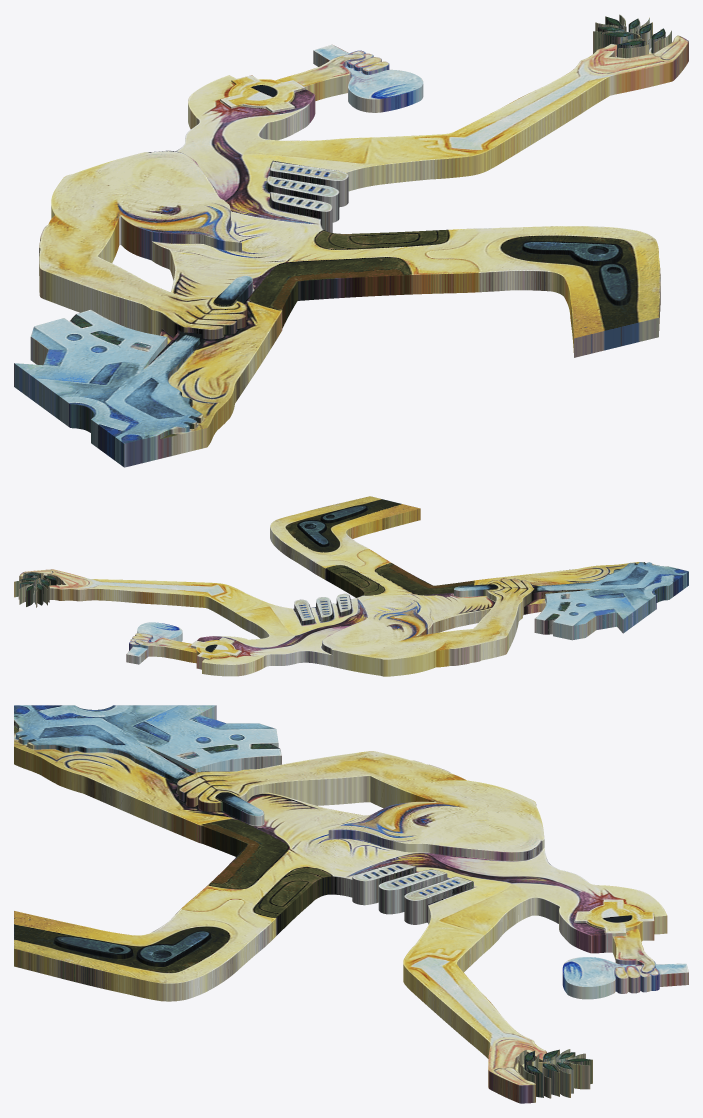
The model's file is el hombre y la quimica 1.dae.
3 renders of one model, top to bottom at view 1: azimuth 30°, elevation 25°; view 2: azimuth 150°, elevation 25°; view 3: azimuth 270°, elevation 25°, orthographic. The views are drawn at different scales.
Visible parts, largest first — view 1: SketchUp (×3); view 2: SketchUp (×3); view 3: SketchUp (×3).
Boxes of the visible parts, bbox=[...] form: SketchUp (×3): bbox=[14, 14, 688, 467]; SketchUp (×3): bbox=[14, 496, 688, 676]; SketchUp (×3): bbox=[14, 705, 688, 1103].
Size of the model in its own units: 139 by 105 by 4.69.
